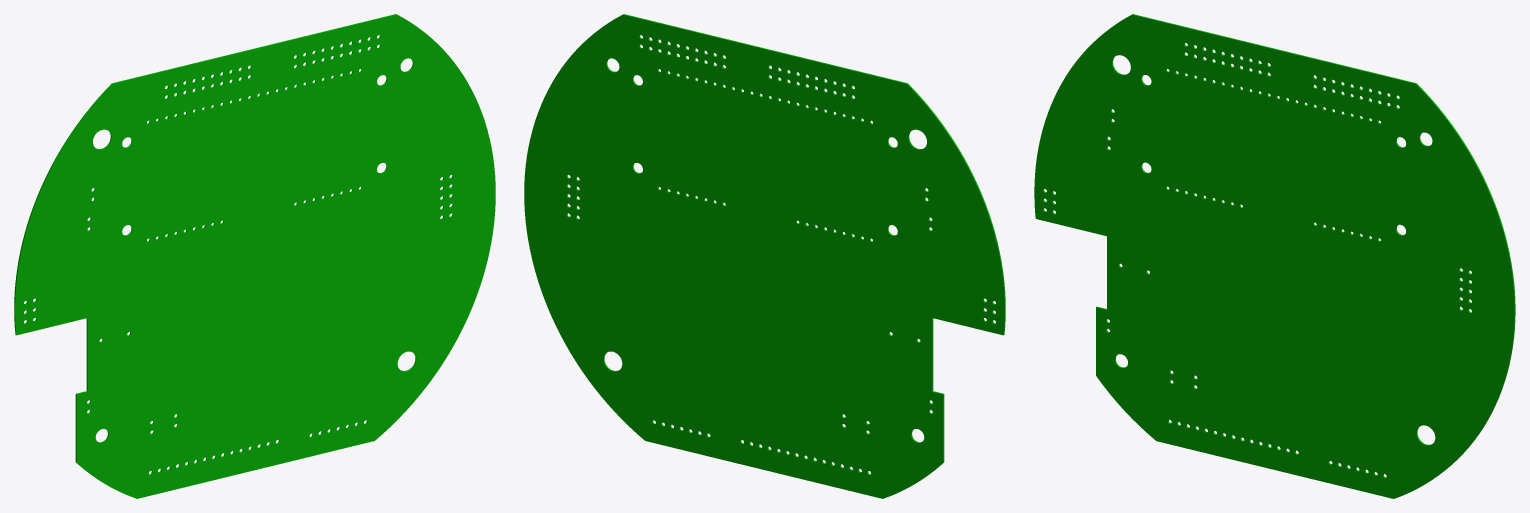
File: pcba_board.glb
The picture shows the model from 3 angles, left to right: view 1: azimuth 30°, elevation 25°; view 2: azimuth 150°, elevation 25°; view 3: azimuth 330°, elevation 25°; orthographic projection.
Visible parts, largest first — view 1: Board.step-1; view 2: Board.step-1; view 3: Board.step-1.
Boxes of the visible parts, x1,y1,x2,y2 form: Board.step-1: (14, 14, 495, 498); Board.step-1: (524, 14, 1005, 498); Board.step-1: (1034, 14, 1515, 498).
Bounding box in the file's own units: 0.1325 × 0.1109 × 0.000413.
